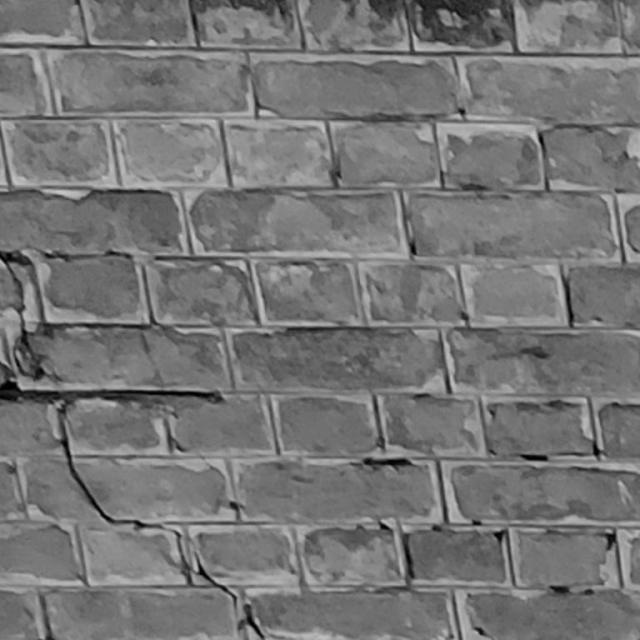crack: (2, 250, 266, 640)
